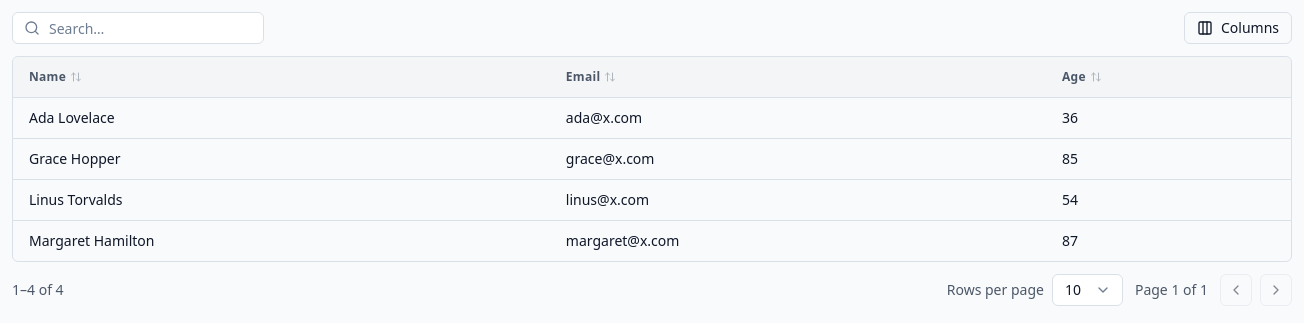
Test: DataTable › column visibility menu hides a column
This screenshot has width=1304, height=323.
Click the button "Columns". click: (1238, 28)
box: [1184,12,1292,44]
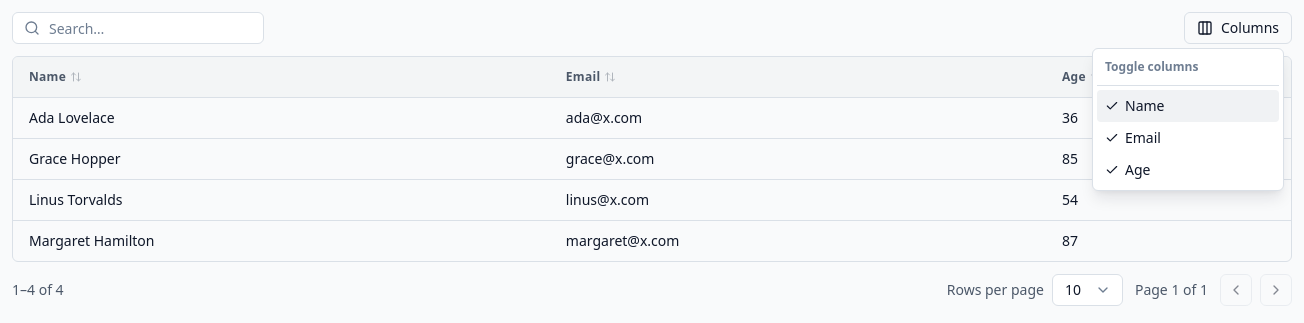
Click the menu item "Email". click: (1133, 138)
box: [1105,128,1161,147]
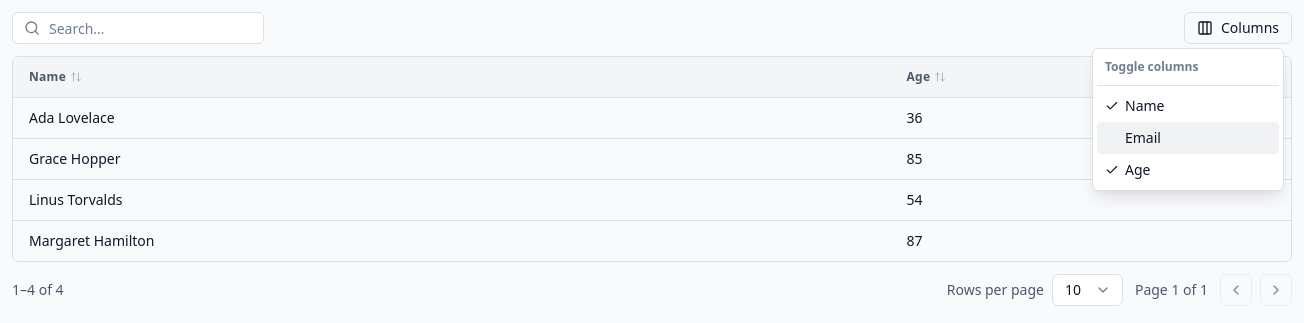
expect the text "ada@x.com" is gone: met
